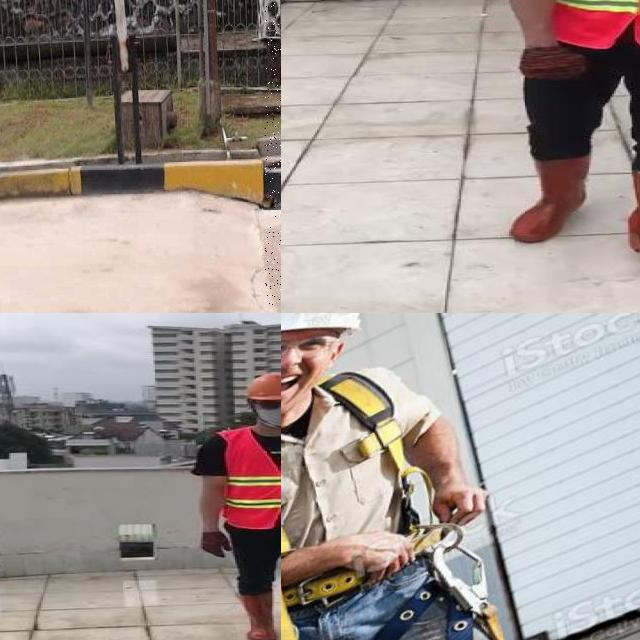Harness: (281, 365, 500, 640)
boots: (511, 158, 587, 243), (238, 591, 277, 640)
face_mask: (253, 395, 281, 426)
glasses: (247, 393, 281, 411)
hand_glove: (516, 46, 584, 79), (200, 531, 232, 559)
head_helmet: (238, 372, 281, 403)
person: (487, 0, 640, 289), (199, 368, 281, 640)
vest: (217, 427, 281, 528)
